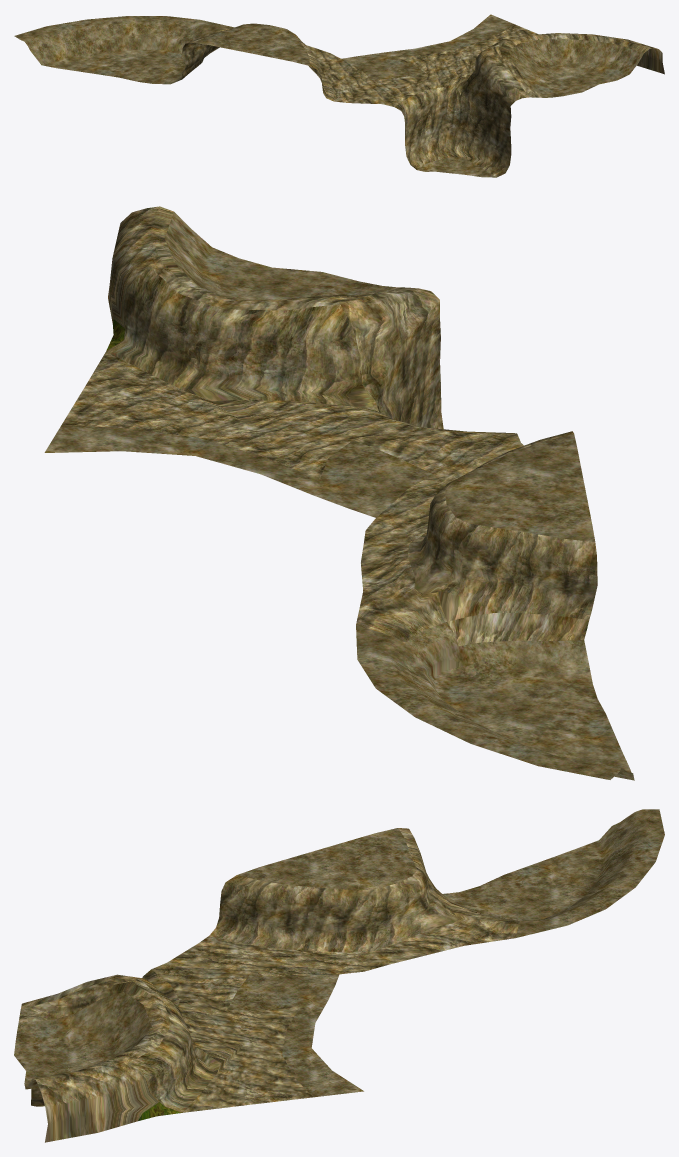
Rendered from RM_PLAYSURFACE_FINAL_MESH01.fbx.
3 views of the same model, one above another, from view 1: azimuth 30°, elevation 25°; view 2: azimuth 150°, elevation 25°; view 3: azimuth 270°, elevation 25° (orthographic). The views are drawn at different scales.
Parts seen in each view (by area): view 1: RM_PLAYSURFACE_FINAL_MESH01; view 2: RM_PLAYSURFACE_FINAL_MESH01; view 3: RM_PLAYSURFACE_FINAL_MESH01.
Boxes of the visible parts, x1=… form: RM_PLAYSURFACE_FINAL_MESH01: x1=14, y1=14, x2=664, y2=177; RM_PLAYSURFACE_FINAL_MESH01: x1=44, y1=206, x2=634, y2=780; RM_PLAYSURFACE_FINAL_MESH01: x1=14, y1=809, x2=664, y2=1142.
Bounding box in the file's own units: 453736 × 97676 × 374530.
4 materials, 4 textured.
